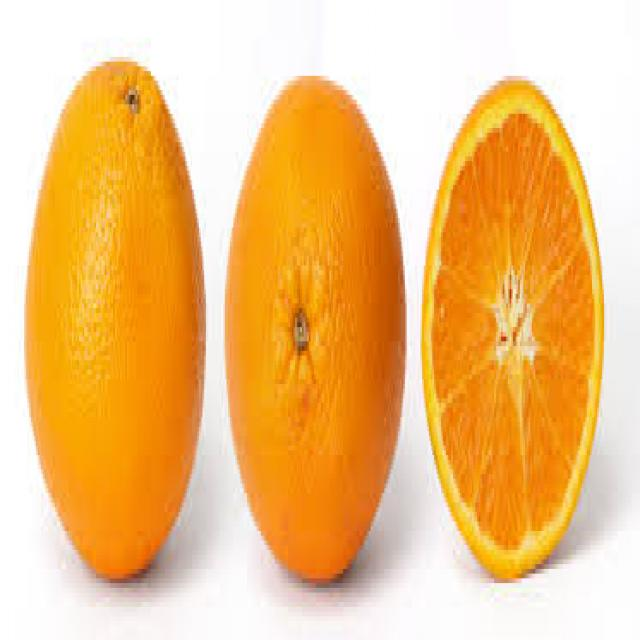orange: (26, 57, 206, 588), (225, 71, 408, 588), (420, 76, 606, 583)
